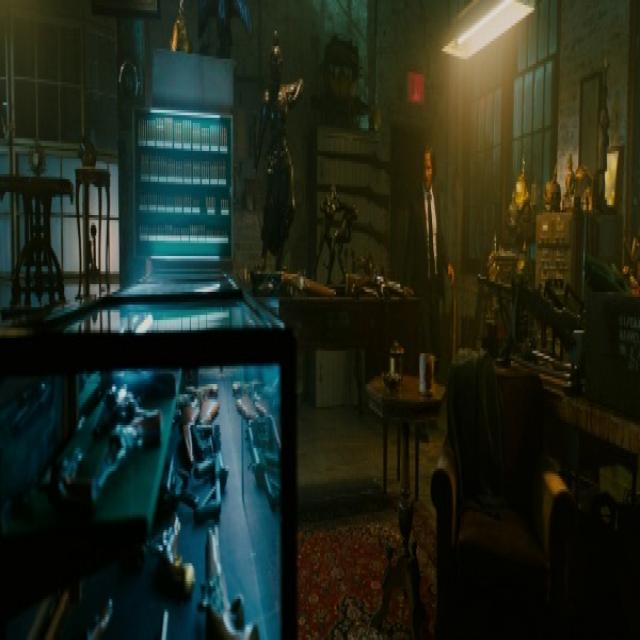rifle: (195, 421, 227, 533)
